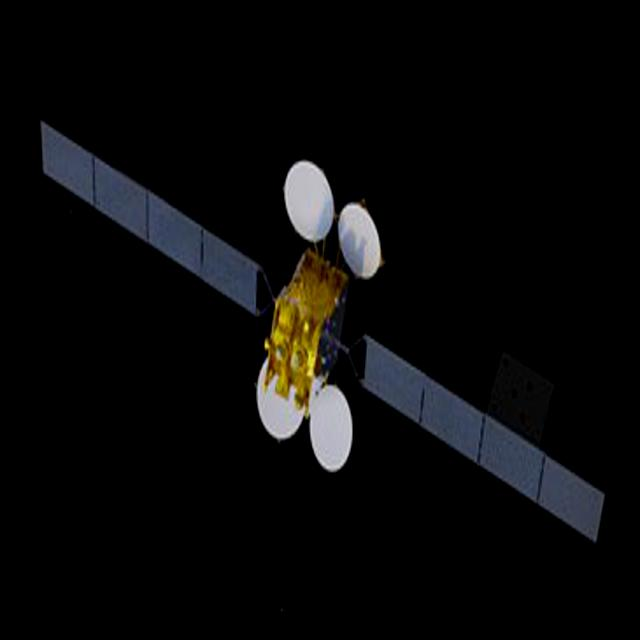satellite: (29, 94, 617, 554)
